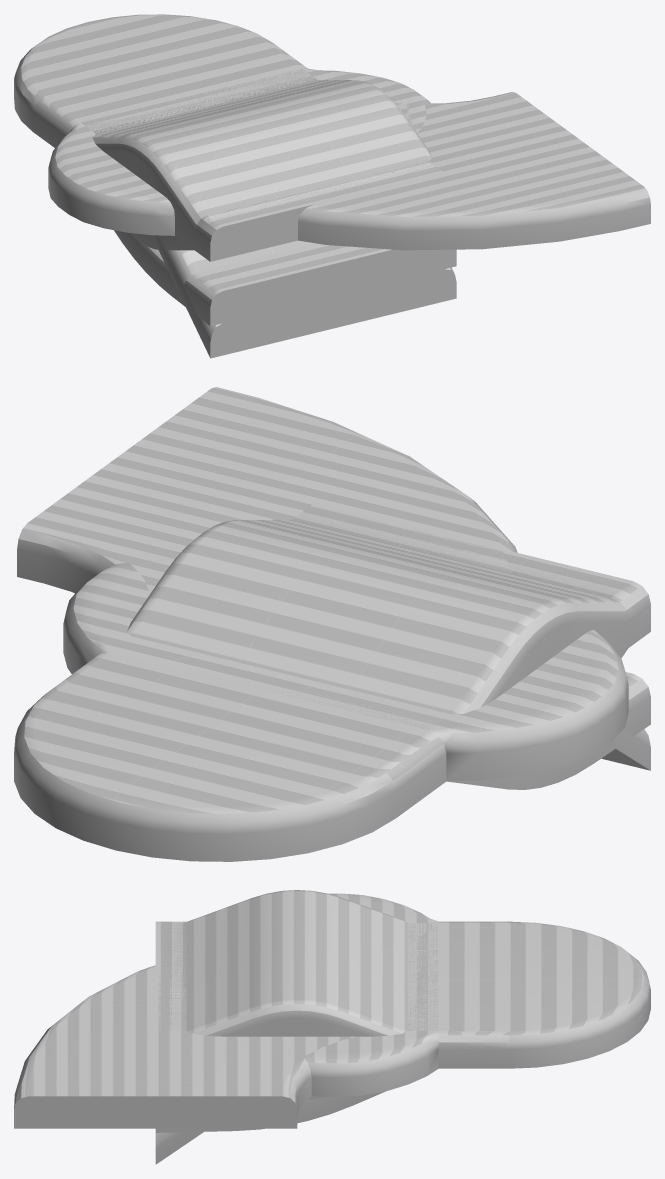
The model's file is Floor_2x4_SofterEdge_thin.fbx.
The picture shows the model from 3 angles, top to bottom: view 1: azimuth 30°, elevation 25°; view 2: azimuth 150°, elevation 25°; view 3: azimuth 270°, elevation 25°; orthographic projection. The views are drawn at different scales.
Parts seen in each view (by area): view 1: Floor_2x4_SrE_Th_hill, Floor_2x4_SrE_Th_rotate, Floor_2x4_SrE_Th_cap, Floor_2x4_SrE_Th_ramp2, Floor_2x4_SrE_Th_ramp1, Floor_2x4_SrE_Th_circle, Floor_2x4_SrE_Th_deep1, Floor_2x4_SrE_Th_main; view 2: Floor_2x4_SrE_Th_hill, Floor_2x4_SrE_Th_cap, Floor_2x4_SrE_Th_rotate, Floor_2x4_SrE_Th_circle, Floor_2x4_SrE_Th_main, Floor_2x4_SrE_Th_ramp2, Floor_2x4_SrE_Th_deep1, Floor_2x4_SrE_Th_ramp1; view 3: Floor_2x4_SrE_Th_hill, Floor_2x4_SrE_Th_rotate, Floor_2x4_SrE_Th_cap, Floor_2x4_SrE_Th_circle, Floor_2x4_SrE_Th_main, Floor_2x4_SrE_Th_ramp1, Floor_2x4_SrE_Th_deep1, Floor_2x4_SrE_Th_ramp2.
Boxes of the visible parts, left/top/right/bottom form: Floor_2x4_SrE_Th_hill: left=85, top=70, right=443, bottom=261; Floor_2x4_SrE_Th_rotate: left=81, top=68, right=650, bottom=250; Floor_2x4_SrE_Th_cap: left=14, top=14, right=307, bottom=147; Floor_2x4_SrE_Th_ramp2: left=114, top=230, right=456, bottom=326; Floor_2x4_SrE_Th_ramp1: left=88, top=70, right=456, bottom=358; Floor_2x4_SrE_Th_circle: left=48, top=68, right=430, bottom=235; Floor_2x4_SrE_Th_deep1: left=90, top=69, right=438, bottom=261; Floor_2x4_SrE_Th_main: left=85, top=69, right=317, bottom=126; Floor_2x4_SrE_Th_hill: left=127, top=503, right=650, bottom=730; Floor_2x4_SrE_Th_cap: left=14, top=653, right=446, bottom=861; Floor_2x4_SrE_Th_rotate: left=17, top=387, right=517, bottom=729; Floor_2x4_SrE_Th_circle: left=63, top=555, right=628, bottom=781; Floor_2x4_SrE_Th_main: left=191, top=661, right=450, bottom=730; Floor_2x4_SrE_Th_ramp2: left=448, top=672, right=650, bottom=789; Floor_2x4_SrE_Th_deep1: left=256, top=507, right=650, bottom=728; Floor_2x4_SrE_Th_ramp1: left=201, top=673, right=650, bottom=770; Floor_2x4_SrE_Th_hill: left=155, top=890, right=438, bottom=1036; Floor_2x4_SrE_Th_rotate: left=14, top=926, right=438, bottom=1128; Floor_2x4_SrE_Th_cap: left=438, top=921, right=650, bottom=1068; Floor_2x4_SrE_Th_circle: left=277, top=893, right=438, bottom=1096; Floor_2x4_SrE_Th_main: left=407, top=923, right=438, bottom=1030; Floor_2x4_SrE_Th_ramp1: left=155, top=923, right=438, bottom=1164; Floor_2x4_SrE_Th_deep1: left=155, top=921, right=438, bottom=1099; Floor_2x4_SrE_Th_ramp2: left=155, top=1091, right=385, bottom=1132.
Bounding box in the file's own units: 694 × 249 × 900.
